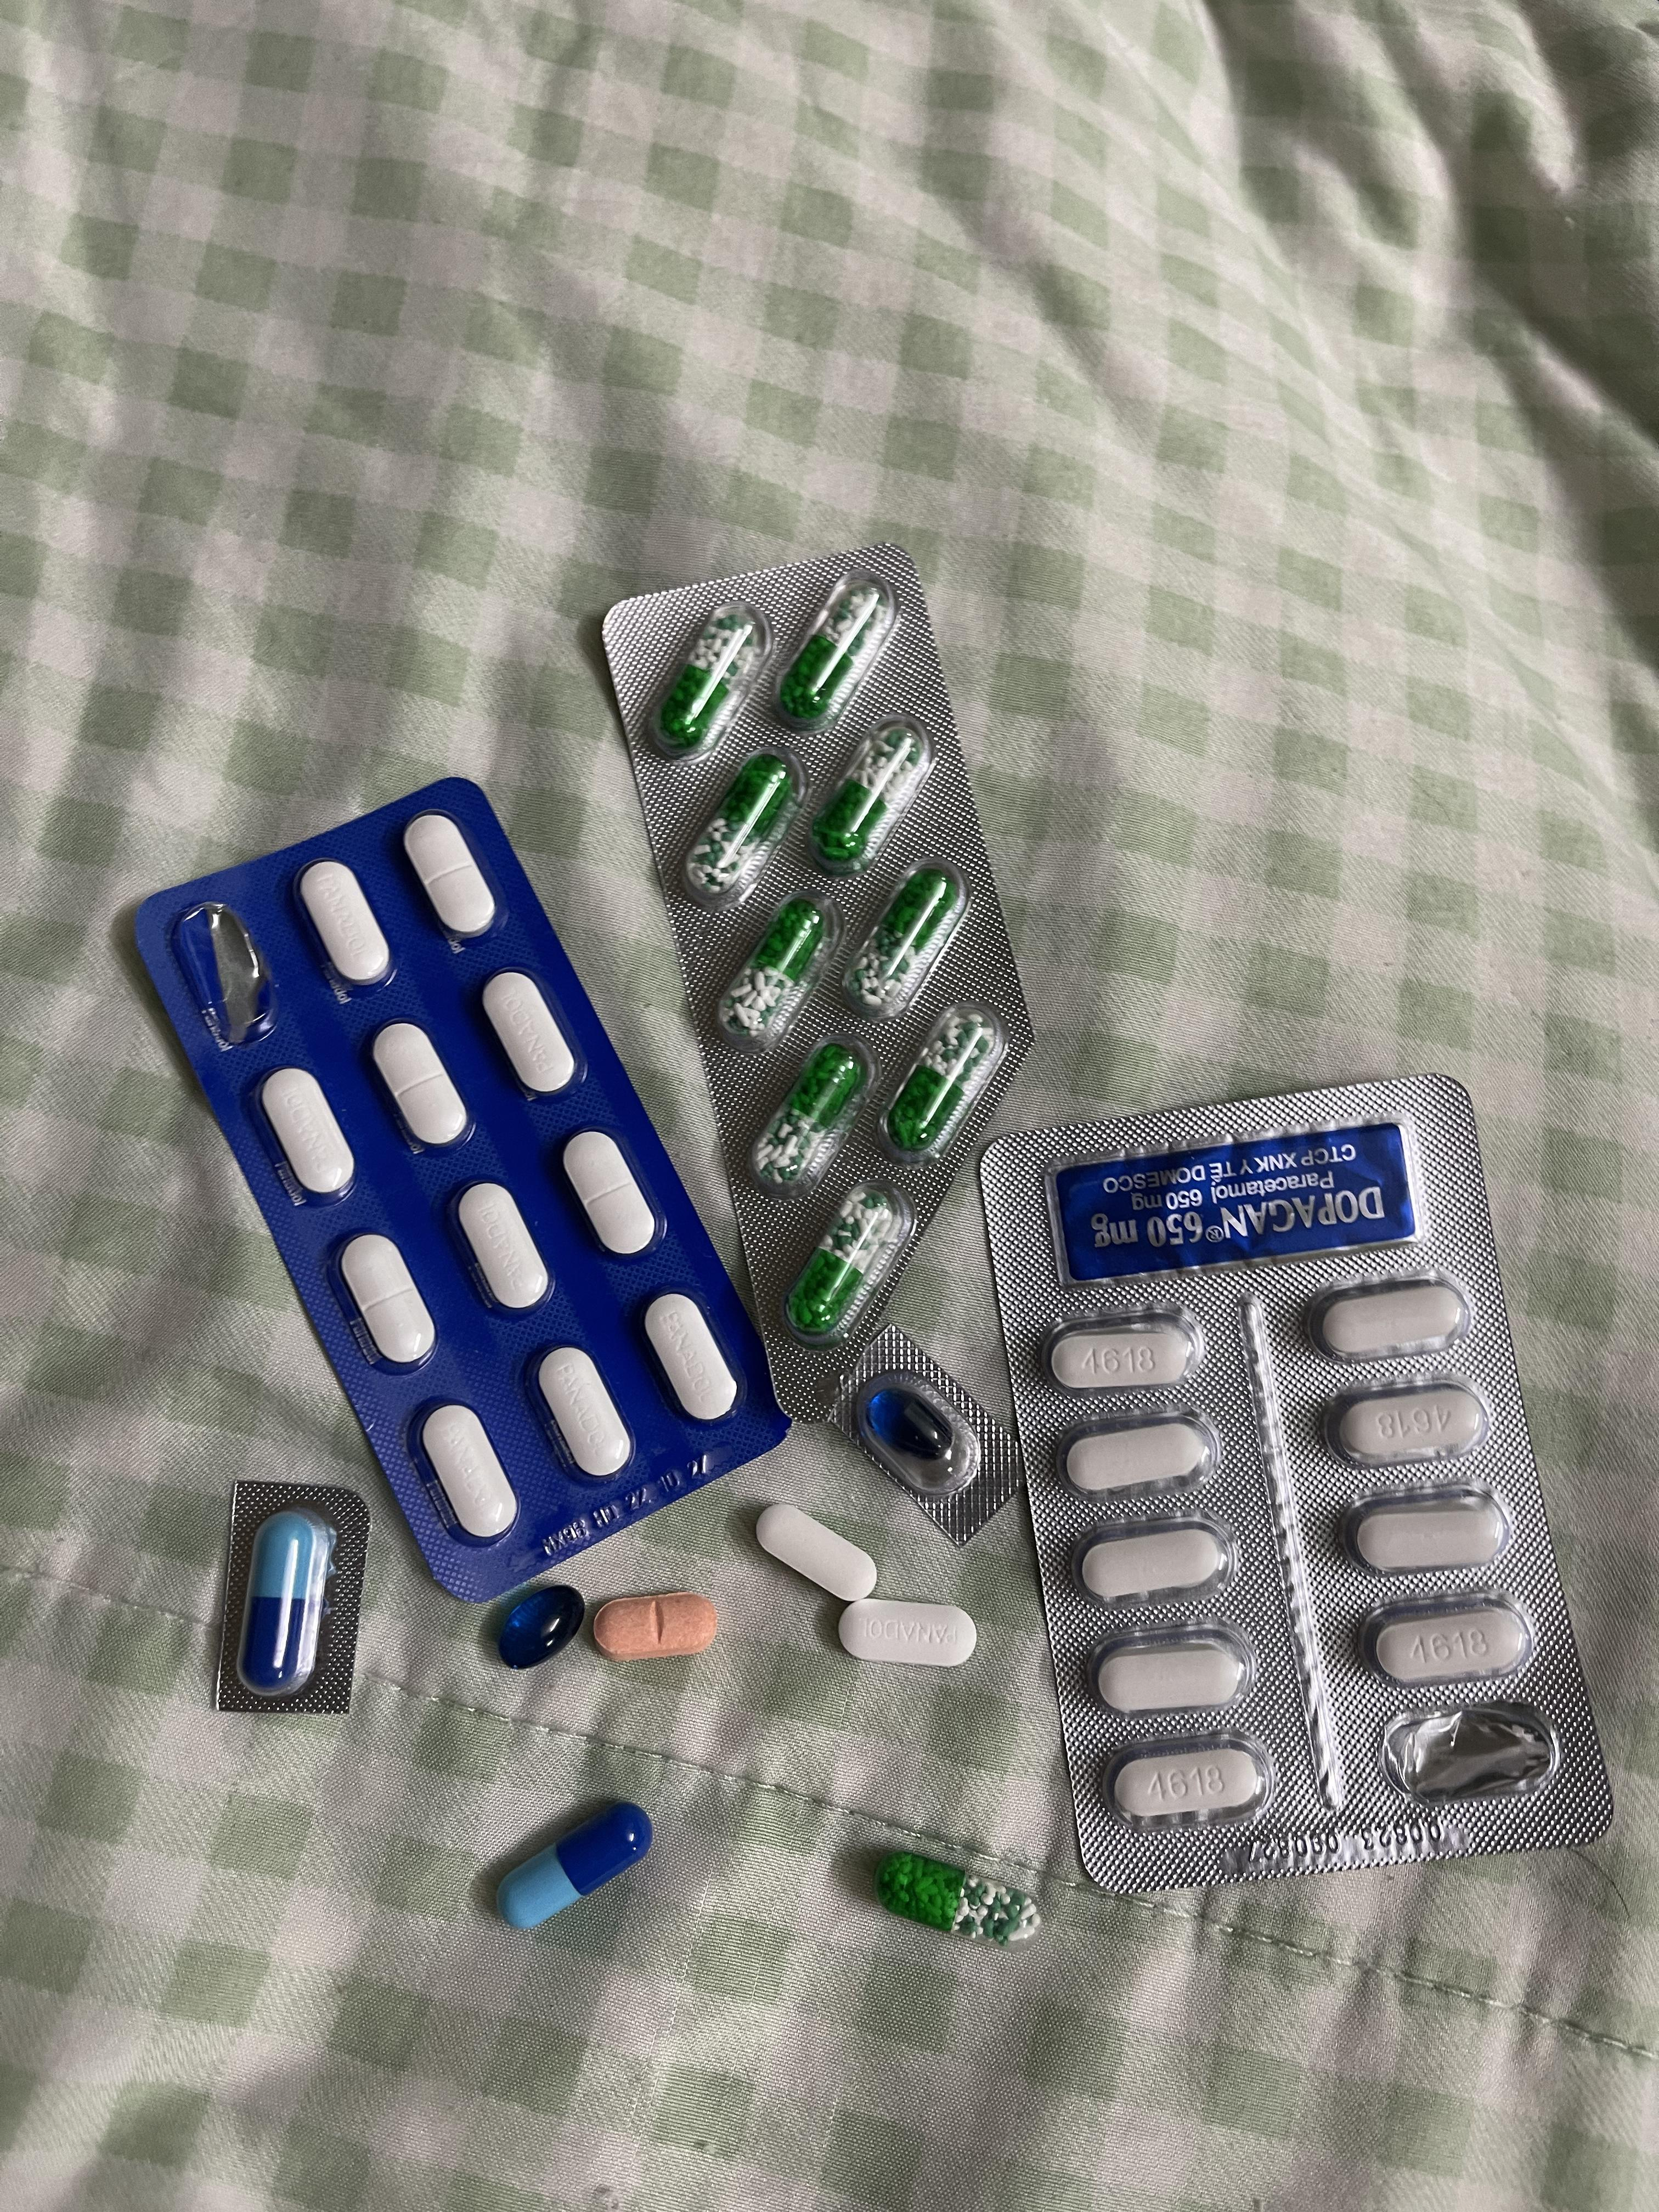Lincomyxin_500mg: (497, 1585, 586, 1670), (868, 1386, 955, 1467)
Loratadine_10mg: (592, 1594, 718, 1658)
Paracetamol_350mg: (253, 1066, 357, 1209), (528, 1345, 634, 1482), (413, 1402, 518, 1541), (336, 1233, 437, 1372), (479, 972, 582, 1108), (640, 1294, 744, 1425), (448, 1179, 549, 1312), (371, 1021, 471, 1153), (296, 860, 394, 991), (561, 1127, 660, 1254), (403, 813, 498, 941), (838, 1601, 976, 1663)
Paracetamol_500mg: (1361, 1592, 1535, 1681), (1321, 1378, 1493, 1467), (1340, 1486, 1514, 1571), (1070, 1508, 1225, 1602), (1089, 1622, 1249, 1712), (1061, 1414, 1215, 1500), (1046, 1305, 1195, 1392), (756, 1503, 877, 1604), (1310, 1284, 1469, 1355), (1112, 1747, 1260, 1822)
Paracetamol_650mg: (770, 563, 901, 733), (647, 596, 774, 763), (711, 890, 838, 1052), (782, 1190, 913, 1345), (748, 1035, 877, 1191), (878, 1005, 1007, 1162), (683, 749, 809, 907), (809, 716, 932, 876), (842, 864, 965, 1015), (877, 1850, 1044, 1947)
pill: (495, 1799, 657, 1933), (239, 1510, 338, 1696)
